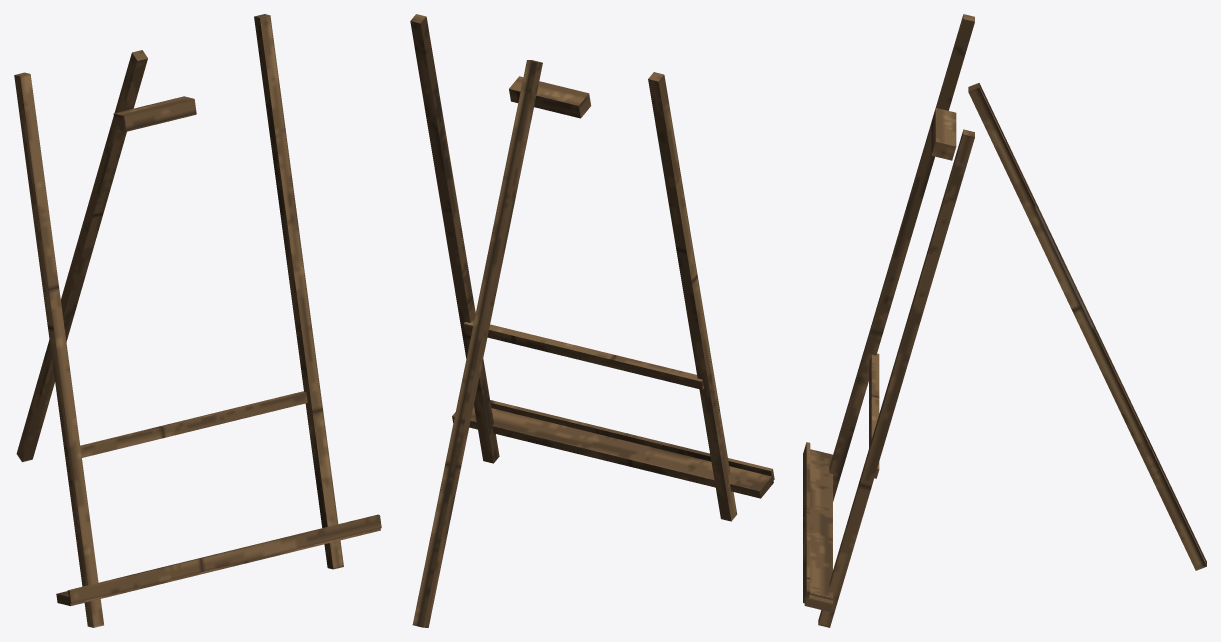
Rendered from Furn_Easel_Frame.fbx.
The picture shows the model from 3 angles, left to right: view 1: azimuth 30°, elevation 25°; view 2: azimuth 150°, elevation 25°; view 3: azimuth 270°, elevation 25°; orthographic projection.
Parts seen in each view (by area): view 1: Furn_Easel_Frame; view 2: Furn_Easel_Frame; view 3: Furn_Easel_Frame.
Part boxes in pixels (left/top/right/bottom): Furn_Easel_Frame: left=14, top=14, right=381, bottom=627; Furn_Easel_Frame: left=410, top=14, right=774, bottom=627; Furn_Easel_Frame: left=803, top=14, right=1206, bottom=627.
Size of the model in its own units: 1.32 by 2.04 by 1.51.
